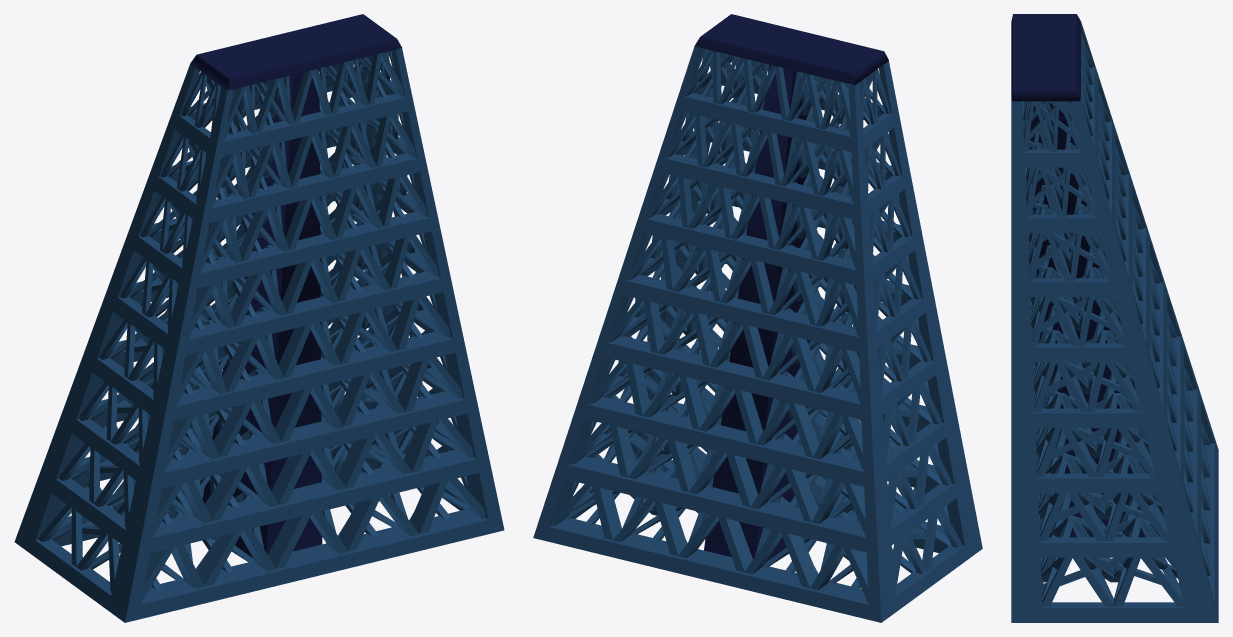
File: 发射架.FBX
3 renders of one model, left to right at view 1: azimuth 30°, elevation 25°; view 2: azimuth 150°, elevation 25°; view 3: azimuth 270°, elevation 25°, orthographic. The views are drawn at different scales.
Visible parts, largest first — view 1: Box007, Box008; view 2: Box007, Box008; view 3: Box007, Box008.
Part boxes in pixels (left/top/right/bottom): Box007: left=14, top=48, right=504, bottom=622; Box008: left=190, top=14, right=401, bottom=557; Box007: left=533, top=46, right=982, bottom=622; Box008: left=694, top=14, right=888, bottom=561; Box007: left=1011, top=21, right=1218, bottom=622; Box008: left=1011, top=14, right=1160, bottom=537.
Size of the model in its own units: 409 by 533 by 206.
